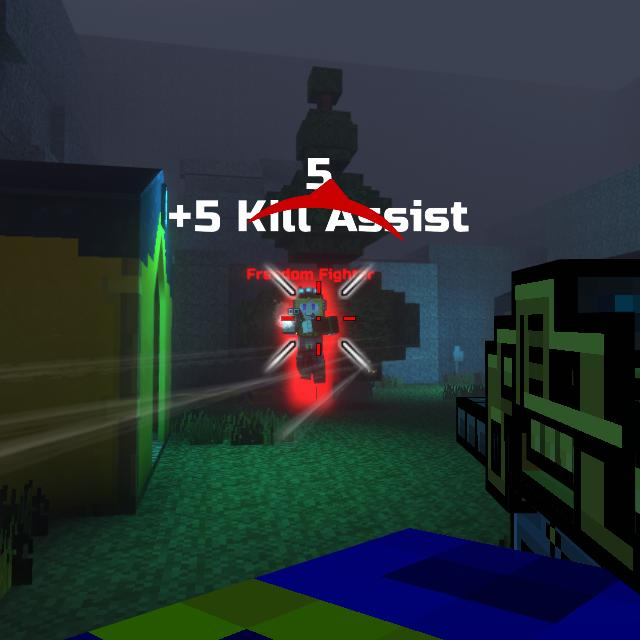Enemy: (281, 288, 339, 384)
